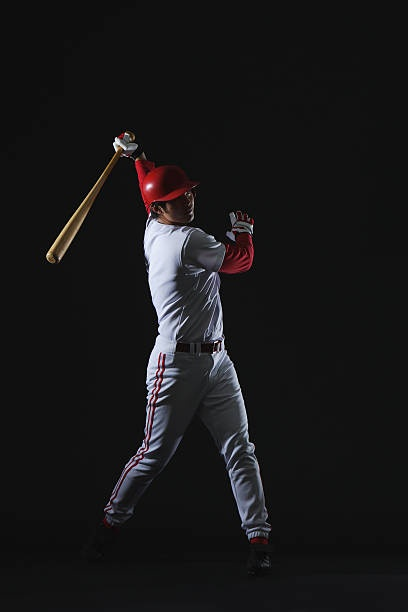bita: (39, 134, 132, 274)
